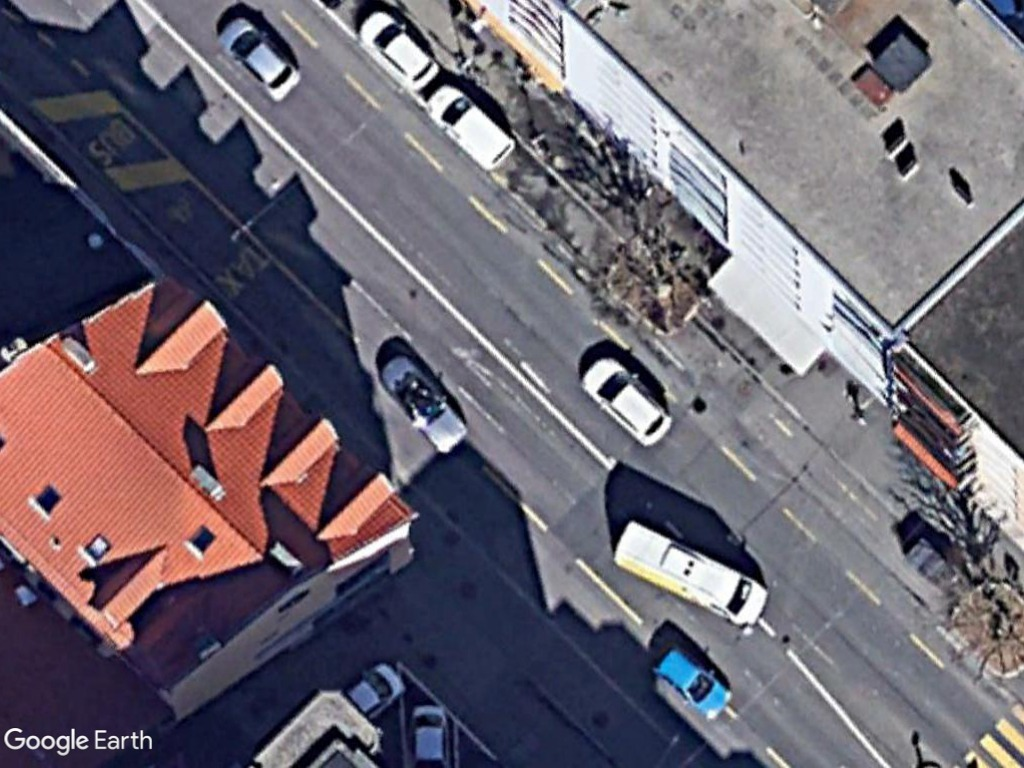car: (569, 351, 675, 447), (423, 82, 517, 175), (214, 14, 303, 104), (357, 4, 441, 94), (652, 642, 735, 723)
van: (612, 515, 774, 630)
